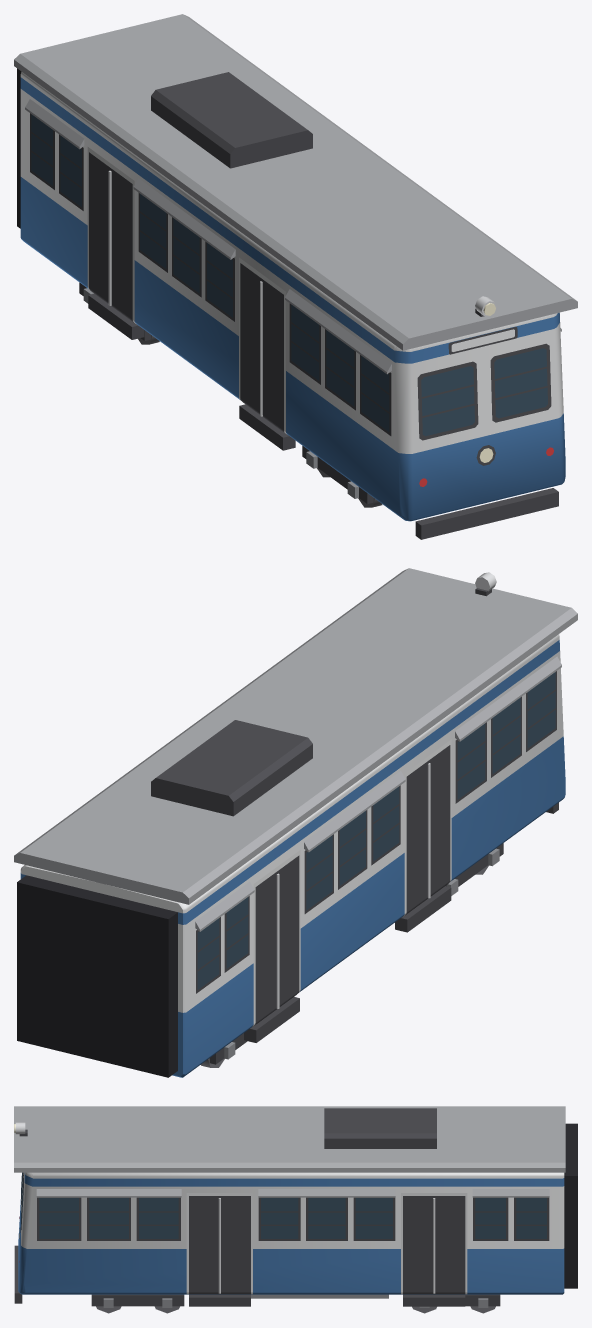
3 renders of one model, top to bottom at view 1: azimuth 30°, elevation 25°; view 2: azimuth 150°, elevation 25°; view 3: azimuth 270°, elevation 25°, orthographic. The views are drawn at different scales.
Parts seen in each view (by area): view 1: 14_4; view 2: 14_4; view 3: 14_4.
Boxes of the visible parts, x1,y1,x2,y2 form: 14_4: (14,14,577,539); 14_4: (14,568,577,1077); 14_4: (14,1106,577,1313).
Size of the model in its own units: 2.54 by 3.37 by 10.
